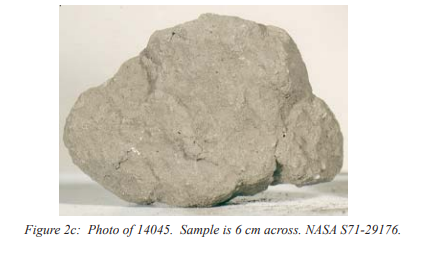Breccia: (57, 5, 344, 210), (133, 13, 340, 204), (89, 100, 267, 163)
